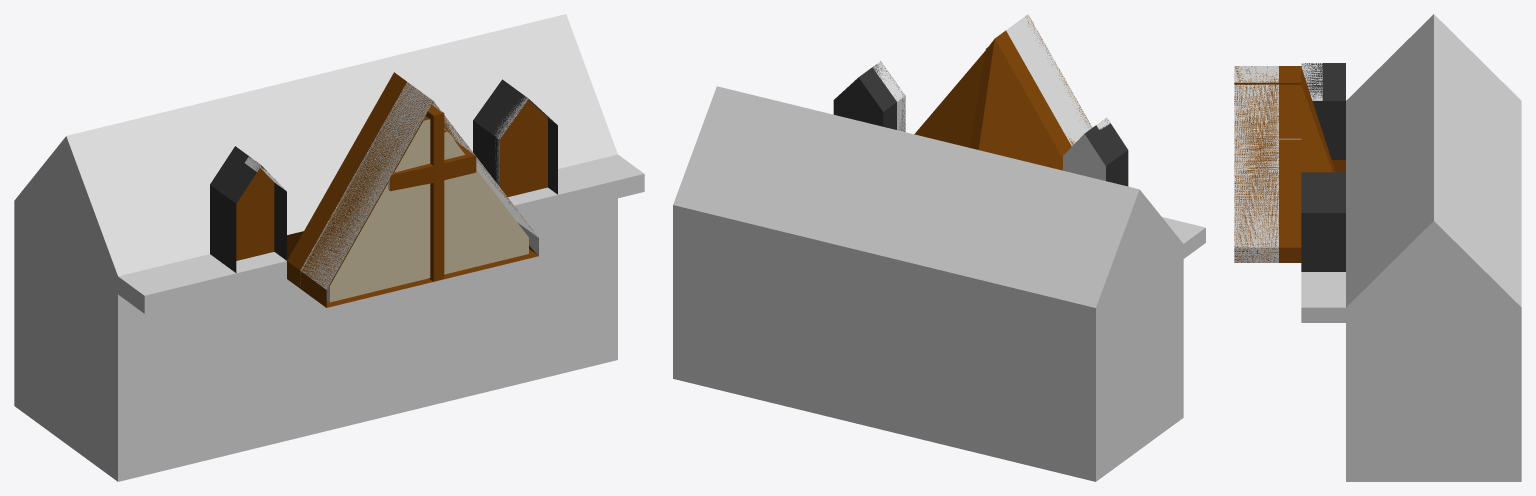
The model's file is amaw.fbx.
The picture shows the model from 3 angles, left to right: view 1: azimuth 30°, elevation 25°; view 2: azimuth 150°, elevation 25°; view 3: azimuth 270°, elevation 25°; orthographic projection. The views are drawn at different scales.
Parts seen in each view (by area): view 1: Cube; view 2: Cube; view 3: Cube.
Boxes of the visible parts, box(x1,y1,x2,y2) form: Cube: box(14, 14, 644, 481); Cube: box(673, 14, 1205, 481); Cube: box(1234, 14, 1521, 481).
Bounding box in the file's own units: 2836 × 1997 × 1666.
